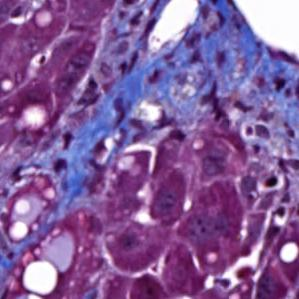inflammation: (254, 164, 290, 199), (239, 118, 276, 146)
